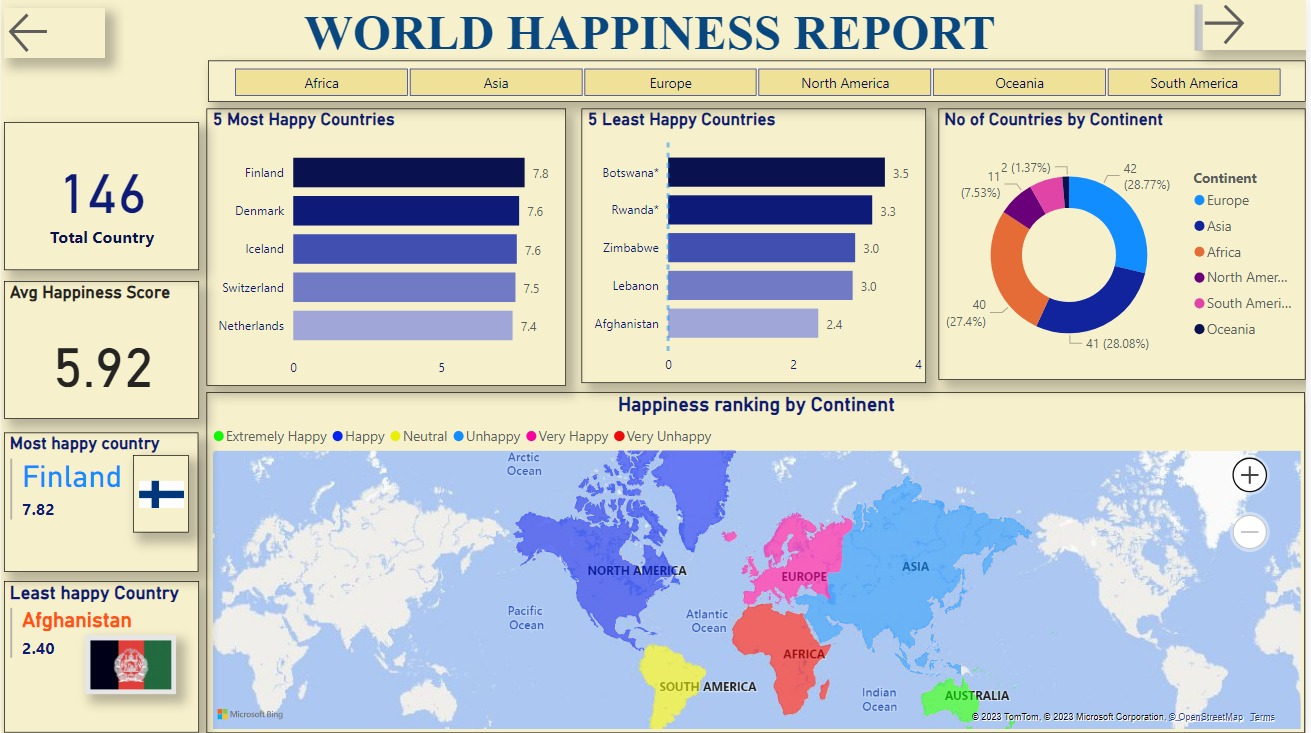

The dashboard page shown, as its layout file describes it:
{"tool":"powerbi","page":{"name":"Summary page","canvas":[1280,720],"ordinal":1},"visuals":[{"type":"textbox","box":[172.1,0,1011.8,60.3],"z":0,"group":"g4"},{"type":"filledMap","title":"Happiness ranking by Continent","fields":{"Category":["ContinetAverageHappiness.Continent"],"Series":["ContinetAverageHappiness.Rating"]},"box":[202.2,385.1,1077.6,334.9],"z":0},{"type":"multiRowCard","title":"Least happy Country","fields":{"Values":["Sum(Happiness.Happiness score)","Happiness.Country"]},"box":[3.3,571,191.2,148.5],"z":0,"group":"g1"},{"type":"card","fields":{"Values":["Happiness.Total Country"]},"box":[2.9,120.6,191.2,145.6],"z":1000},{"type":"image","box":[82.1,624.6,89.5,58.2],"z":1000,"group":"g1"},{"type":"multiRowCard","title":"Most happy country","fields":{"Values":["Sum(Happiness.Happiness score)","Happiness.Country"]},"box":[2.9,425,190.9,136.9],"z":2000,"group":"g2"},{"type":"group","id":"g1","title":"Group 1","box":[3.3,571,191.2,148.5],"z":2000},{"type":"group","id":"g2","title":"Group 2","box":[2.9,425,191.2,136.8],"z":3000},{"type":"image","box":[129.1,447.4,54.6,76.3],"z":3000,"group":"g2"},{"type":"clusteredBarChart","title":"5 Least Happy Countries","fields":{"Category":["Happiness.Country"],"Y":["Sum(Happiness.Happiness score)"]},"box":[569.1,107.4,338.2,269.1],"z":4000},{"type":"clusteredBarChart","title":"5 Most Happy Countries","fields":{"Category":["Happiness.Country"],"Y":["Sum(Happiness.Happiness score)"]},"box":[202.2,106.8,352.7,271.8],"z":5000},{"type":"donutChart","title":"No of Countries by Continent","fields":{"Category":["Happiness.Continent"],"Y":["CountNonNull(Happiness.RANK)"]},"box":[919.1,107.4,360.3,266.2],"z":6000},{"type":"slicer","fields":{"Values":["Happiness.Continent"]},"box":[202.9,60.6,1076.6,40.9],"z":7000},{"type":"group","id":"g3","title":"Group 1","box":[172.1,0,1011.8,60.3],"z":8000},{"type":"actionButton","box":[1173.5,0,105.9,50],"z":9000},{"type":"group","id":"g4","title":"Group 3","box":[172.1,0,1011.8,60.3],"z":9001,"group":"g3"},{"type":"actionButton","box":[2.9,8.8,98.5,48.5],"z":10000},{"type":"card","title":"Avg Happiness Score","fields":{"Values":["Avg(ContinetAverageHappiness.AverageHappiness)"]},"box":[2.9,276.5,191.2,135.3],"z":11000}]}

Visuals, with their boxes in screenshot pixels (x1, y1, x2, y2), scaled from the page's 1280x720 canvas onto the 1311x733 screenshot:
textbox: <bbox>176, 0, 1213, 61</bbox>
"Happiness ranking by Continent" filledMap: <bbox>207, 392, 1310, 732</bbox>
"Least happy Country" multiRowCard: <bbox>3, 581, 199, 732</bbox>
card - Happiness.Total Country: <bbox>3, 123, 199, 271</bbox>
image: <bbox>84, 636, 176, 695</bbox>
"Most happy country" multiRowCard: <bbox>3, 433, 198, 572</bbox>
"Group 1" group: <bbox>3, 581, 199, 732</bbox>
"Group 2" group: <bbox>3, 433, 199, 572</bbox>
image: <bbox>132, 455, 188, 533</bbox>
"5 Least Happy Countries" clusteredBarChart: <bbox>583, 109, 929, 383</bbox>
"5 Most Happy Countries" clusteredBarChart: <bbox>207, 109, 568, 385</bbox>
"No of Countries by Continent" donutChart: <bbox>941, 109, 1310, 380</bbox>
slicer - Happiness.Continent: <bbox>208, 62, 1310, 103</bbox>
"Group 1" group: <bbox>176, 0, 1213, 61</bbox>
actionButton: <bbox>1202, 0, 1310, 51</bbox>
"Group 3" group: <bbox>176, 0, 1213, 61</bbox>
actionButton: <bbox>3, 9, 104, 58</bbox>
"Avg Happiness Score" card: <bbox>3, 281, 199, 419</bbox>
